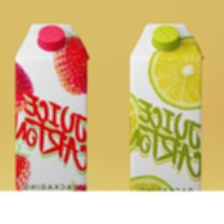carton: (123, 19, 207, 192), (9, 21, 92, 194)
